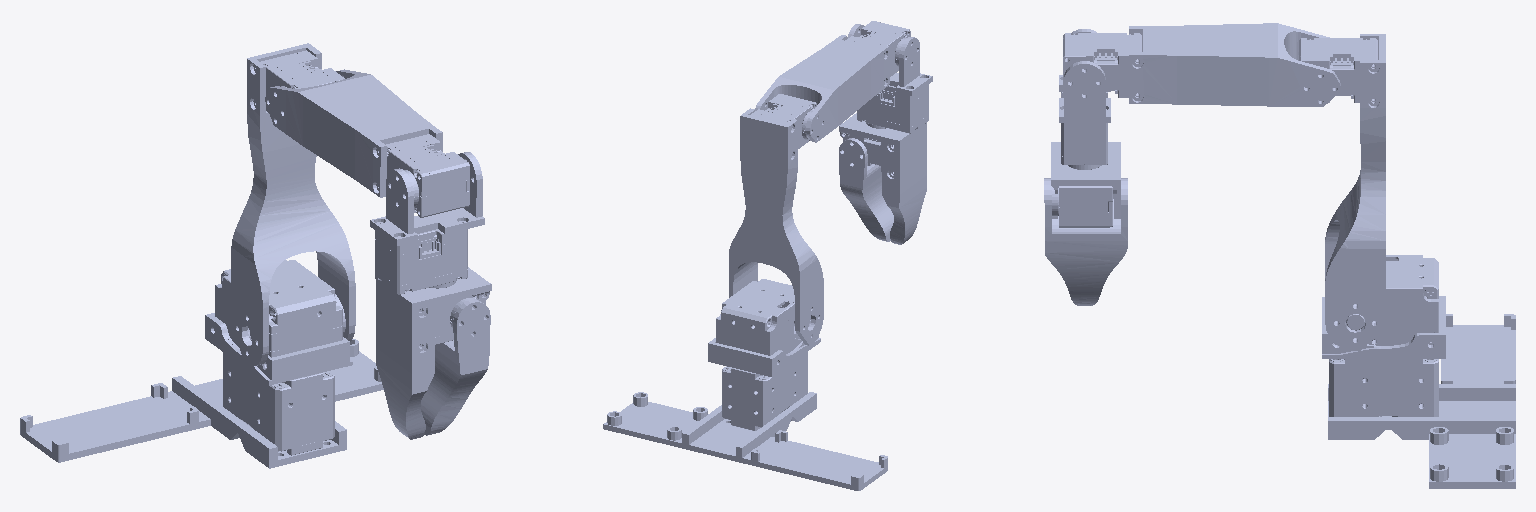
URDF robot description (koch):
<?xml version="1.0" encoding="utf-8"?>
<robot
  name="koch">
  <link
    name="base_link">
    <inertial>
      <origin
        xyz="-0.011141 -0.10061 0.076043"
        rpy="0 0 0" />
      <mass
        value="0.024929" />
      <inertia
        ixx="1.0987E-05"
        ixy="-1.4265E-07"
        ixz="-2.3161E-06"
        iyy="4.9192E-05"
        iyz="-1.8015E-07"
        izz="3.8411E-05" />
    </inertial>
    <visual>
      <origin
        xyz="0 0 0"
        rpy="0 0 0" />
      <geometry>
        <mesh
          filename="package://koch/meshes/base_link.stl" />
      </geometry>
      <material
        name="">
        <color
          rgba="0.79216 0.81961 0.93333 1" />
      </material>
    </visual>
    <collision>
      <origin
        xyz="0 0 0"
        rpy="0 0 0" />
      <geometry>
        <mesh
          filename="package://koch/meshes/base_link.stl" />
      </geometry>
    </collision>
  </link>
  <link
    name="link_1">
    <inertial>
      <origin
        xyz="0.00546148702076507 0.10467880012529 -0.0820307590787204"
        rpy="0 0 0" />
      <mass
        value="0.0421762252650754" />
      <inertia
        ixx="1.09781766802375E-05"
        ixy="4.40820563321132E-09"
        ixz="5.24547826280305E-09"
        iyy="6.35571344051651E-06"
        iyz="-2.55439306832928E-07"
        izz="9.91180823538587E-06" />
    </inertial>
    <visual>
      <origin
        xyz="0 0 0"
        rpy="0 0 0" />
      <geometry>
        <mesh
          filename="package://koch/meshes/link_1.stl" />
      </geometry>
      <material
        name="">
        <color
          rgba="0.792156862745098 0.819607843137255 0.933333333333333 1" />
      </material>
    </visual>
    <collision>
      <origin
        xyz="0 0 0"
        rpy="0 0 0" />
      <geometry>
        <mesh
          filename="package://koch/meshes/link_1.stl" />
      </geometry>
    </collision>
  </link>
  <joint
    name="fixed_joint"
    type="fixed">
    <origin
      xyz="0.005766 -0.028665  0.018513"
      rpy="0 0 0" />
    <parent
      link="base_link" />
    <child
      link="link_1" />
    <axis
      xyz="0 0 0" />
  </joint>
  <link
    name="link_2">
    <inertial>
      <origin
        xyz="-0.000599521251599892 -0.01214448812913 -0.0162228482755552"
        rpy="0 0 0" />
      <mass
        value="0.0490602741822512" />
      <inertia
        ixx="1.23060578065707E-05"
        ixy="2.48969011965324E-07"
        ixz="-5.07587890385691E-09"
        iyy="7.57948440389379E-06"
        iyz="2.79698372869455E-08"
        izz="1.44673534182408E-05" />
    </inertial>
    <visual>
      <origin
        xyz="0 0 0"
        rpy="0 0 0" />
      <geometry>
        <mesh
          filename="package://koch/meshes/link_2.stl" />
      </geometry>
      <material
        name="">
        <color
          rgba="0.792156862745098 0.819607843137255 0.933333333333333 1" />
      </material>
    </visual>
    <collision>
      <origin
        xyz="0 0 0"
        rpy="0 0 0" />
      <geometry>
        <mesh
          filename="package://koch/meshes/link_2.stl" />
      </geometry>
    </collision>
  </link>
  <joint
    name="joint_1"
    type="revolute">
    <origin
      xyz="0 -0.011858  0.020066"
      rpy="0 0 0" />
    <parent
      link="link_1" />
    <child
      link="link_2" />
    <axis
      xyz="0 0 1" />
    <limit lower="-3.14159" upper="3.14159"/>
  </joint>
  <link
    name="link_3">
    <inertial>
      <origin
        xyz="0.000421340473778738 0.00663235728724902 0.0711027578821964"
        rpy="0 0 0" />
      <mass
        value="0.0495780944252854" />
      <inertia
        ixx="3.37548285934918E-05"
        ixy="-2.64464028650966E-09"
        ixz="1.18369553327327E-10"
        iyy="3.70078130346226E-05"
        iyz="2.89589344417314E-06"
        izz="8.227755425135E-06" />
    </inertial>
    <visual>
      <origin
        xyz="0 0 0"
        rpy="0 0 0" />
      <geometry>
        <mesh
          filename="package://koch/meshes/link_3.stl" />
      </geometry>
      <material
        name="">
        <color
          rgba="0.792156862745098 0.819607843137255 0.933333333333333 1" />
      </material>
    </visual>
    <collision>
      <origin
        xyz="0 0 0"
        rpy="0 0 0" />
      <geometry>
        <mesh
          filename="package://koch/meshes/link_3.stl" />
      </geometry>
    </collision>
  </link>
  <joint
    name="joint_2"
    type="revolute">
    <origin
      xyz="0.020713 0 0.015368"
      rpy="0 0 0" />
    <parent
      link="link_2" />
    <child
      link="link_3" />
    <axis
      xyz="1 0 0" />
    <limit lower="-3.14159" upper="3.14159"/>
  </joint>
  <link
    name="link_4">
    <inertial>
      <origin
        xyz="-0.000473888588224017 -0.0549425500579234 0.00286748944029759"
        rpy="0 0 0" />
      <mass
        value="0.0631912511759639" />
      <inertia
        ixx="2.22133857277613E-05"
        ixy="-2.60725068002433E-09"
        ixz="-9.83232693502075E-11"
        iyy="7.3328440154108E-06"
        iyz="1.89503580542288E-07"
        izz="2.44964228707391E-05" />
    </inertial>
    <visual>
      <origin
        xyz="0 0 0"
        rpy="0 0 0" />
      <geometry>
        <mesh
          filename="package://koch/meshes/link_4.stl" />
      </geometry>
      <material
        name="">
        <color
          rgba="0.792156862745098 0.819607843137255 0.933333333333333 1" />
      </material>
    </visual>
    <collision>
      <origin
        xyz="0 0 0"
        rpy="0 0 0" />
      <geometry>
        <mesh
          filename="package://koch/meshes/link_4.stl" />
      </geometry>
    </collision>
  </link>
  <joint
    name="joint_3"
    type="revolute">
    <origin
      xyz="-0.038026 -0.014951  0.108424"
      rpy="0 0 0" />
    <parent
      link="link_3" />
    <child
      link="link_4" />
    <axis
      xyz="1 0 0" />
    <limit lower="-3.14159" upper="3.14159"/>
  </joint>
  <link
    name="link_5">
    <inertial>
      <origin
        xyz="0.00504501747147962 -9.06142822537648E-06 -0.0325201529652048"
        rpy="0 0 0" />
      <mass
        value="0.0198049389956388" />
      <inertia
        ixx="1.07826423329981E-06"
        ixy="1.37634813783634E-09"
        ixz="2.83021319815508E-08"
        iyy="2.87586796432686E-06"
        iyz="-1.33100790895479E-10"
        izz="2.95769278459524E-06" />
    </inertial>
    <visual>
      <origin
        xyz="0 0 0"
        rpy="0 0 0" />
      <geometry>
        <mesh
          filename="package://koch/meshes/link_5.stl" />
      </geometry>
      <material
        name="">
        <color
          rgba="0.792156862745098 0.819607843137255 0.933333333333333 1" />
      </material>
    </visual>
    <collision>
      <origin
        xyz="0 0 0"
        rpy="0 0 0" />
      <geometry>
        <mesh
          filename="package://koch/meshes/link_5.stl" />
      </geometry>
    </collision>
  </link>
  <joint
    name="joint_4"
    type="revolute">
    <origin
      xyz="-0.000251 -0.100502  0.002641"
      rpy="0 0 0" />
    <parent
      link="link_4" />
    <child
      link="link_5" />
    <axis
      xyz="1 0 0" />
    <limit lower="-3.14159" upper="3.14159"/>
  </joint>
  <link
    name="link_6">
    <inertial>
      <origin
        xyz="0.0083776132652086 0.221509253380248 -0.000322123870656721"
        rpy="0 0 0" />
      <mass
        value="0.0286782121965461" />
      <inertia
        ixx="6.8235194033342E-06"
        ixy="-2.84299175040268E-09"
        ixz="1.06006884589027E-06"
        iyy="8.09477227096767E-06"
        iyz="4.61842210237313E-08"
        izz="3.58058771769467E-06" />
    </inertial>
    <visual>
      <origin
        xyz="0 0 0"
        rpy="0 0 0" />
      <geometry>
        <mesh
          filename="package://koch/meshes/link_6.stl" />
      </geometry>
      <material
        name="">
        <color
          rgba="0.792156862745098 0.819607843137255 0.933333333333333 1" />
      </material>
    </visual>
    <collision>
      <origin
        xyz="0 0 0"
        rpy="0 0 0" />
      <geometry>
        <mesh
          filename="package://koch/meshes/link_6.stl" />
      </geometry>
    </collision>
  </link>
  <joint
    name="joint_5"
    type="revolute">
    <origin
      xyz="0.019234  0.00037 -0.044779"
      rpy="0 0 0" />
    <parent
      link="link_5" />
    <child
      link="link_6" />
    <axis
      xyz="0 0 1" />
    <limit lower="-3.14159" upper="3.14159"/>
  </joint>
  <link
    name="gripper">
    <inertial>
      <origin
        xyz="0.0010818 0.032382 -0.019069"
        rpy="0 0 0" />
      <mass
        value="0.012831" />
      <inertia
        ixx="3.449E-06"
        ixy="-3.8704E-09"
        ixz="3.156E-07"
        iyy="2.4565E-06"
        iyz="3.4089E-08"
        izz="1.5159E-06" />
    </inertial>
    <visual>
      <origin
        xyz="0 0 0"
        rpy="0 0 0" />
      <geometry>
        <mesh
          filename="package://koch/meshes/gripper.stl" />
      </geometry>
      <material
        name="">
        <color
          rgba="0.79216 0.81961 0.93333 1" />
      </material>
    </visual>
    <collision>
      <origin
        xyz="0 0 0"
        rpy="0 0 0" />
      <geometry>
        <mesh
          filename="package://koch/meshes/gripper.stl" />
      </geometry>
    </collision>
  </link>
  <joint
    name="joint_6"
    type="revolute">
    <origin
      xyz="0.007429 -0.017441 -0.013336"
      rpy="0 0 0" />
    <parent
      link="link_6" />
    <child
      link="gripper" />
    <axis
      xyz="0 1 0" />
    <limit lower="-1.75" upper="0"/>
  </joint>
</robot>

--- What the picture shows (computed from the rendered views, not written in the file) ---
Views: 3 orthographic renders of the robot side by side, from view 1: azimuth 30°, elevation 25°; view 2: azimuth 150°, elevation 25°; view 3: azimuth 270°, elevation 25°.
Model koch with 8 links and 7 joints (6 revolute, 1 fixed), rooted at base_link, posed all joints at 0.
Links seen in each view (by area): view 1: link_3, link_4, base_link, link_2, link_6, link_5, link_1, gripper; view 2: link_3, base_link, link_4, link_2, link_6, link_1, link_5, gripper; view 3: link_4, base_link, link_3, link_2, link_1, gripper, link_5, link_6.
Boxes of the visible links, x1=… form: link_3: x1=231, y1=43, x2=355, y2=366; link_4: x1=265, y1=69, x2=469, y2=217; base_link: x1=20, y1=339, x2=383, y2=468; link_2: x1=205, y1=260, x2=352, y2=385; link_6: x1=376, y1=267, x2=491, y2=439; link_5: x1=370, y1=152, x2=484, y2=294; link_1: x1=223, y1=352, x2=334, y2=455; gripper: x1=421, y1=300, x2=490, y2=435; link_3: x1=729, y1=94, x2=823, y2=345; base_link: x1=603, y1=392, x2=887, y2=490; link_4: x1=755, y1=21, x2=910, y2=142; link_2: x1=708, y1=279, x2=820, y2=376; link_6: x1=839, y1=113, x2=926, y2=244; link_1: x1=722, y1=352, x2=807, y2=430; link_5: x1=847, y1=24, x2=932, y2=133; gripper: x1=839, y1=138, x2=893, y2=241; link_4: x1=1063, y1=23, x2=1340, y2=106; base_link: x1=1328, y1=314, x2=1515, y2=488; link_3: x1=1299, y1=34, x2=1385, y2=350; link_2: x1=1322, y1=255, x2=1445, y2=358; link_1: x1=1329, y1=359, x2=1438, y2=428; gripper: x1=1044, y1=178, x2=1127, y2=305; link_5: x1=1059, y1=29, x2=1110, y2=169; link_6: x1=1051, y1=142, x2=1120, y2=227.
Bounding box of the posed robot: 0.1585 × 0.2005 × 0.1792 m (x, y, z).
Meshes: 8 distinct files referenced, 8 mesh visuals loaded (8 binary STL).
